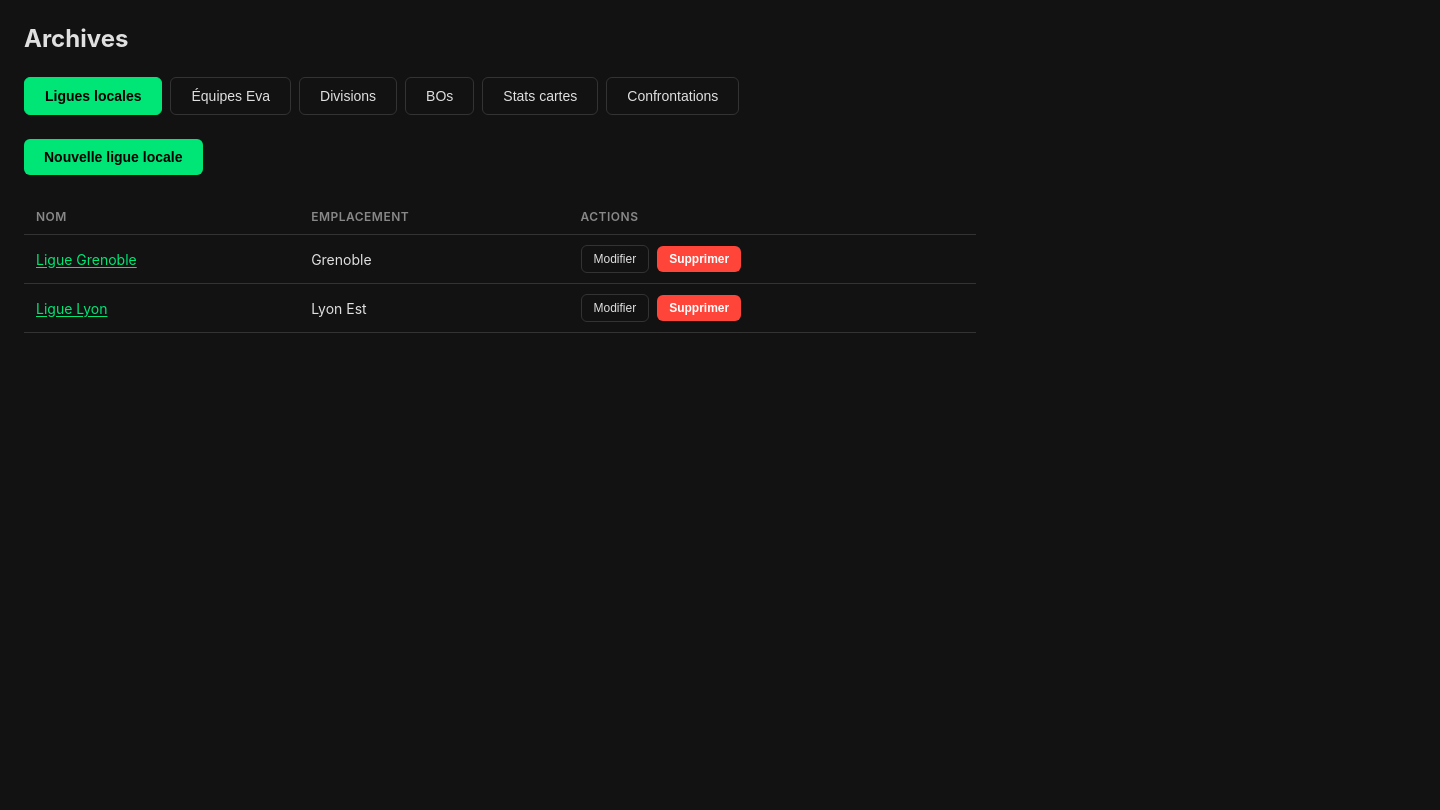
Test: ArchivePage › opens edit form modal with pre-filled values
Click the button "Modifier" in the row of "Ligue Grenoble".
click(615, 259)  # box [580,245,649,273]
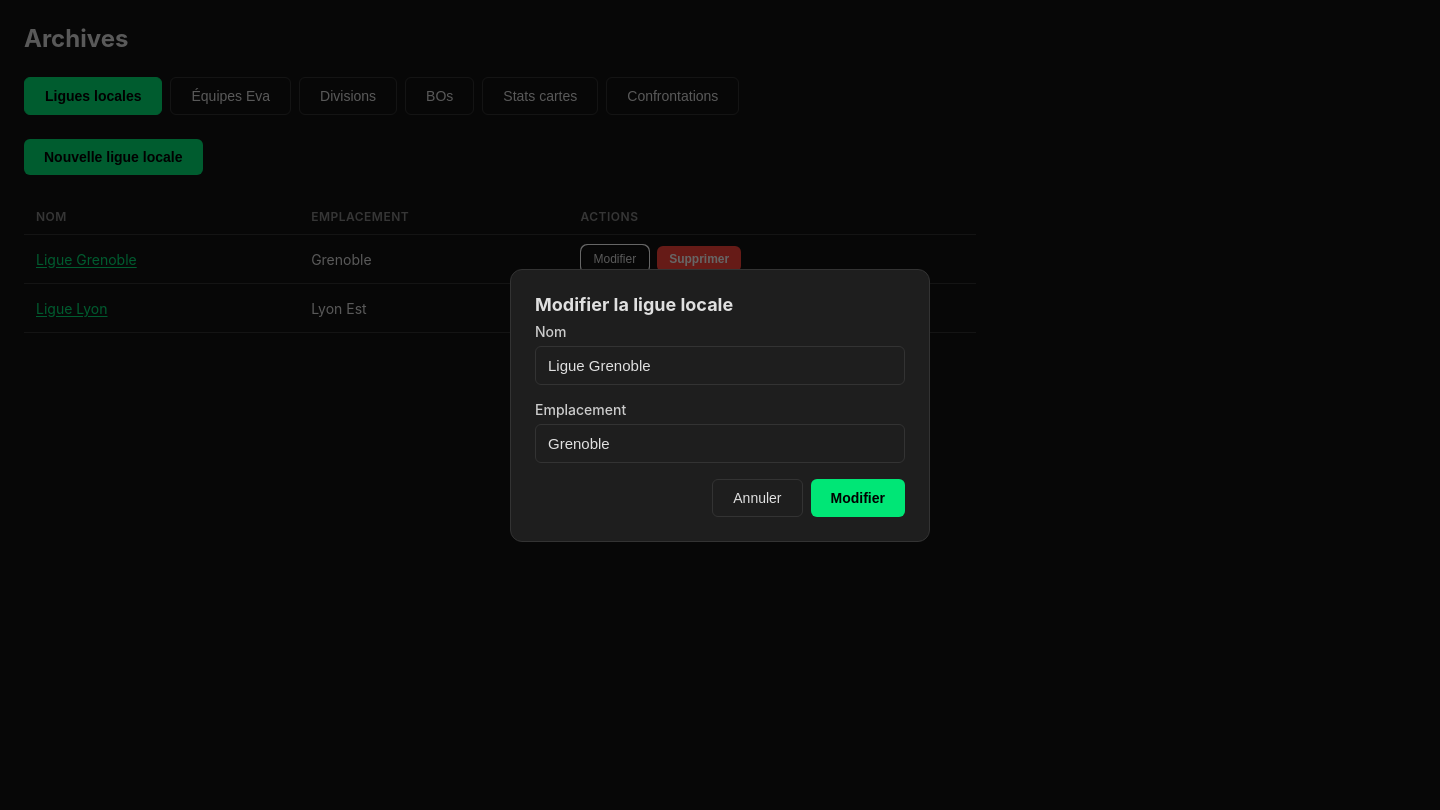
Expected: the heading "Modifier la ligue locale" is shown, [535,294,733,314]
Expected: the field labelled "Nom" holds "Ligue Grenoble", [535,346,905,384]
